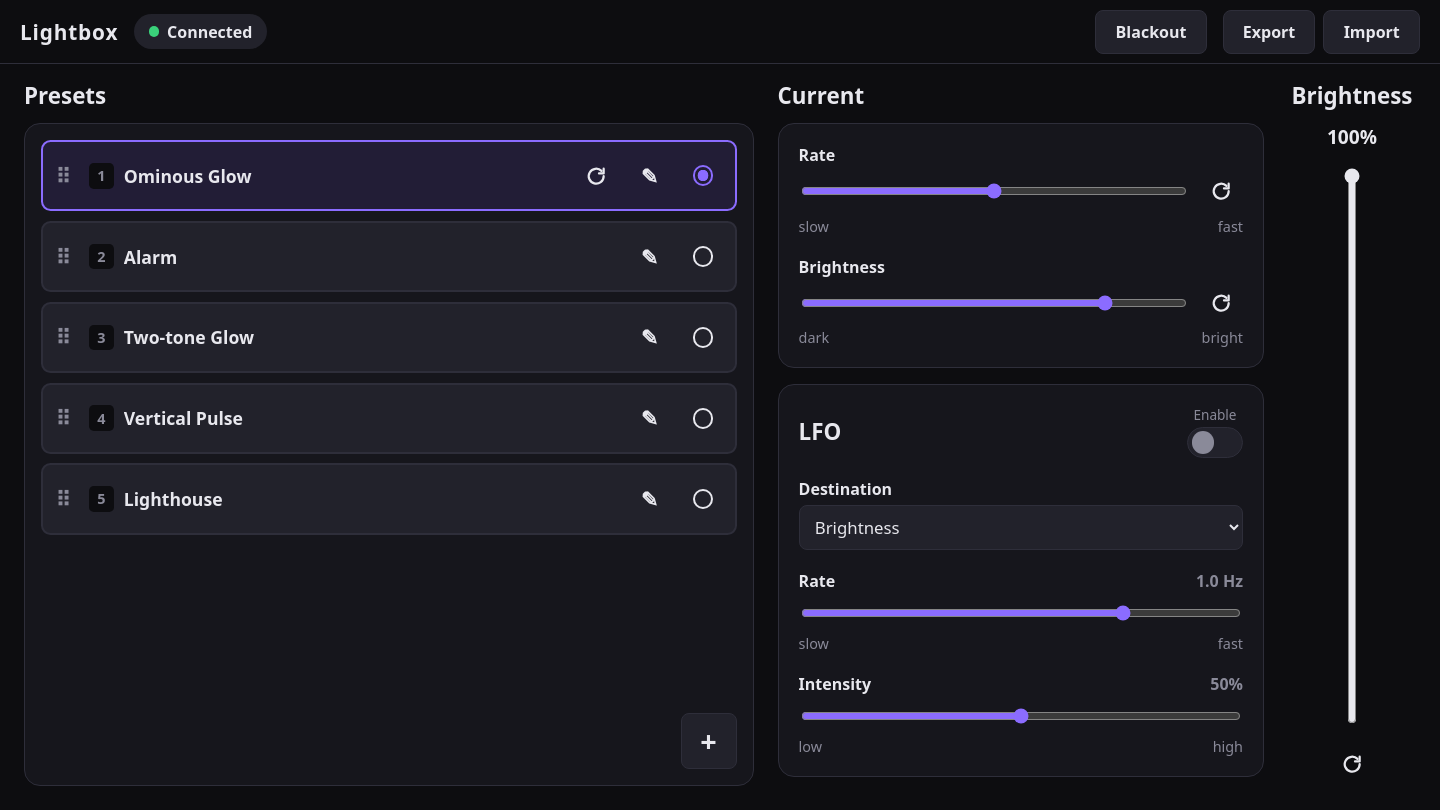
it: App › edits a preset live and saves it
This screenshot has width=1440, height=810.
Click the button named "Edit Alarm". click: {"x": 649, "y": 257}
box: 627,235 -> 671,279
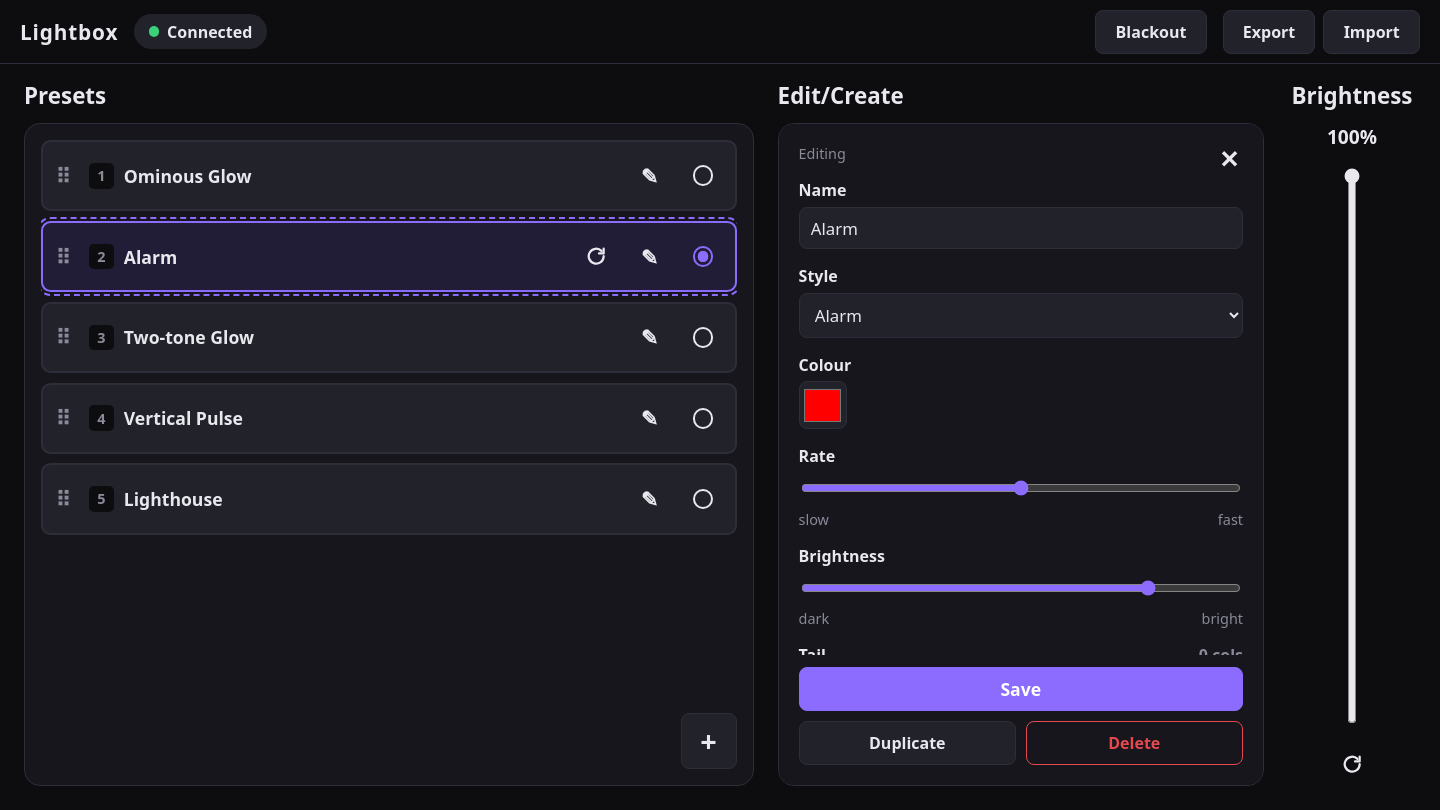
Type "#00ff00" into the colour field named "Colour 1". click: {"x": 823, "y": 405}
box: 799,381 -> 847,429
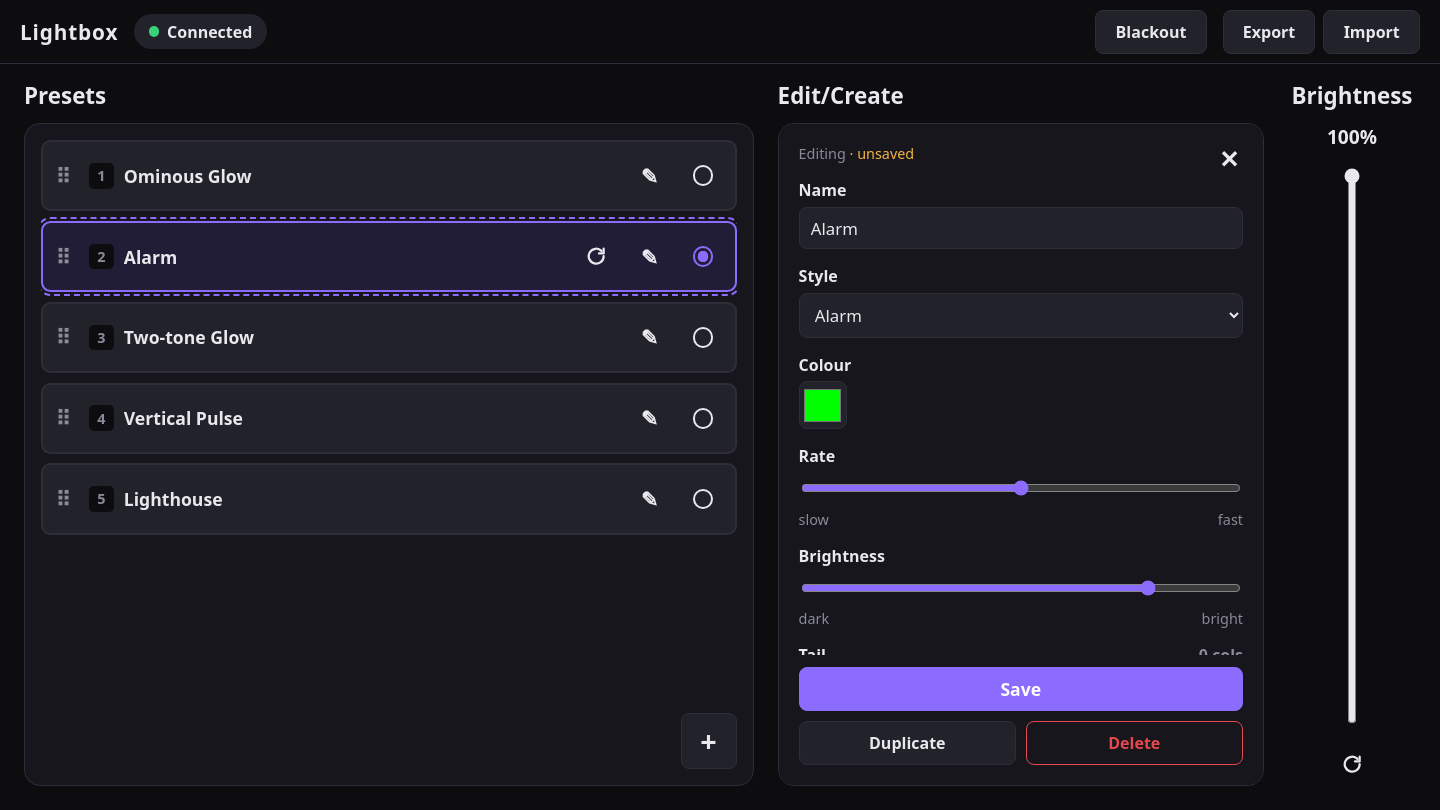
Type "Green alarm" into the field labelled "Name". click: {"x": 1021, "y": 228}
box: 799,207 -> 1243,249
(page scrolled)
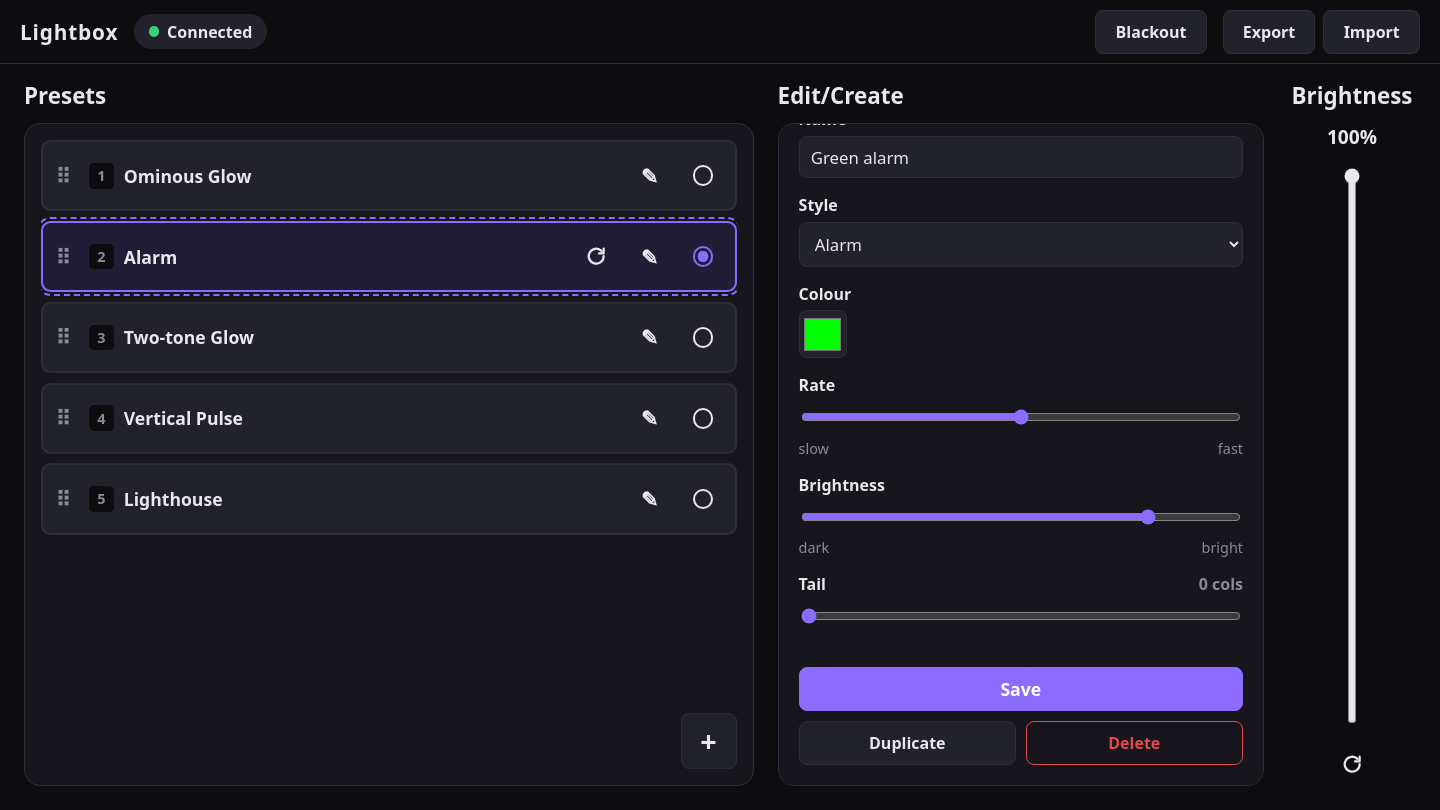
Submit the form
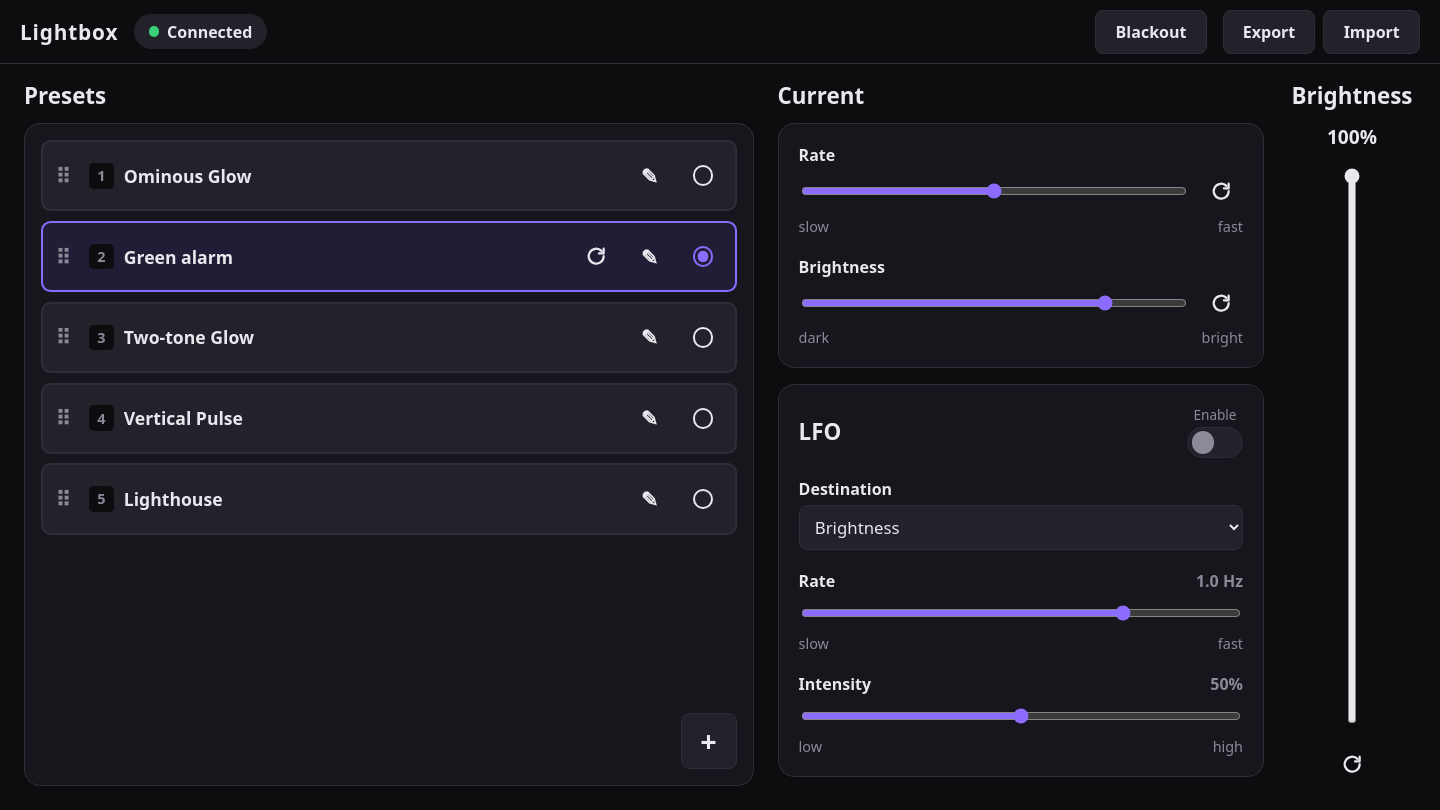
Now the text "Green alarm" is shown, box 124,245 -> 233,269
